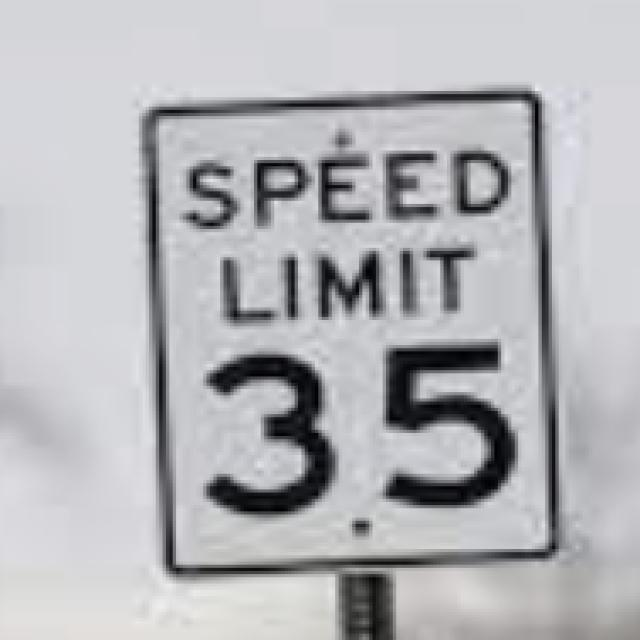speedLimit35: (124, 88, 561, 568)
